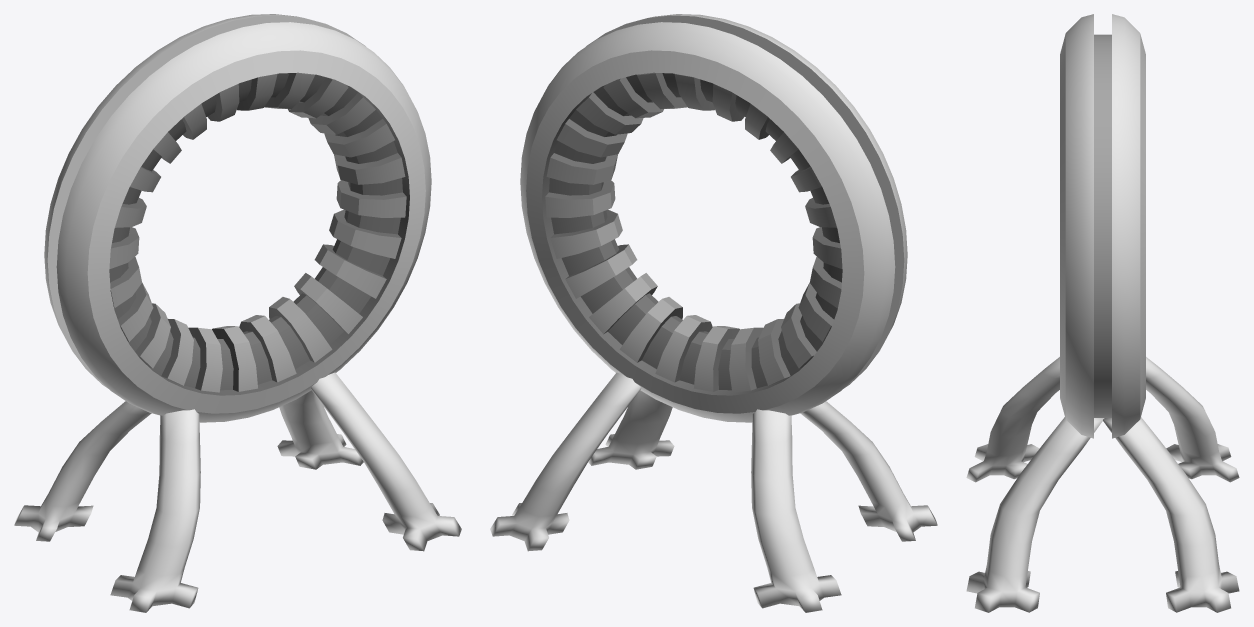
Rendered from carbon_scrubber.fbx.
The picture shows the model from 3 angles, left to right: view 1: azimuth 30°, elevation 25°; view 2: azimuth 150°, elevation 25°; view 3: azimuth 270°, elevation 25°; orthographic projection.
Visible parts, largest first — view 1: Torus, Cube; view 2: Torus, Cube; view 3: Torus, Cube.
Boxes of the visible parts, left/top/right/bottom form: Torus: left=44, top=14, right=431, bottom=422; Cube: left=14, top=372, right=461, bottom=612; Torus: left=520, top=14, right=907, bottom=422; Cube: left=490, top=372, right=937, bottom=612; Torus: left=1060, top=14, right=1145, bottom=438; Cube: left=966, top=357, right=1239, bottom=612.
Bounding box in the file's own units: 247 × 321 × 159.
